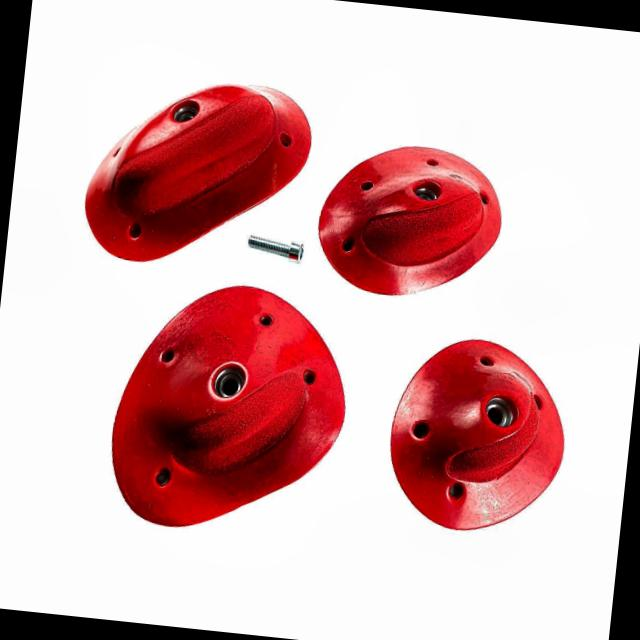Hold: (90, 271, 356, 546), (77, 66, 315, 272), (384, 328, 577, 546), (302, 119, 508, 311)
